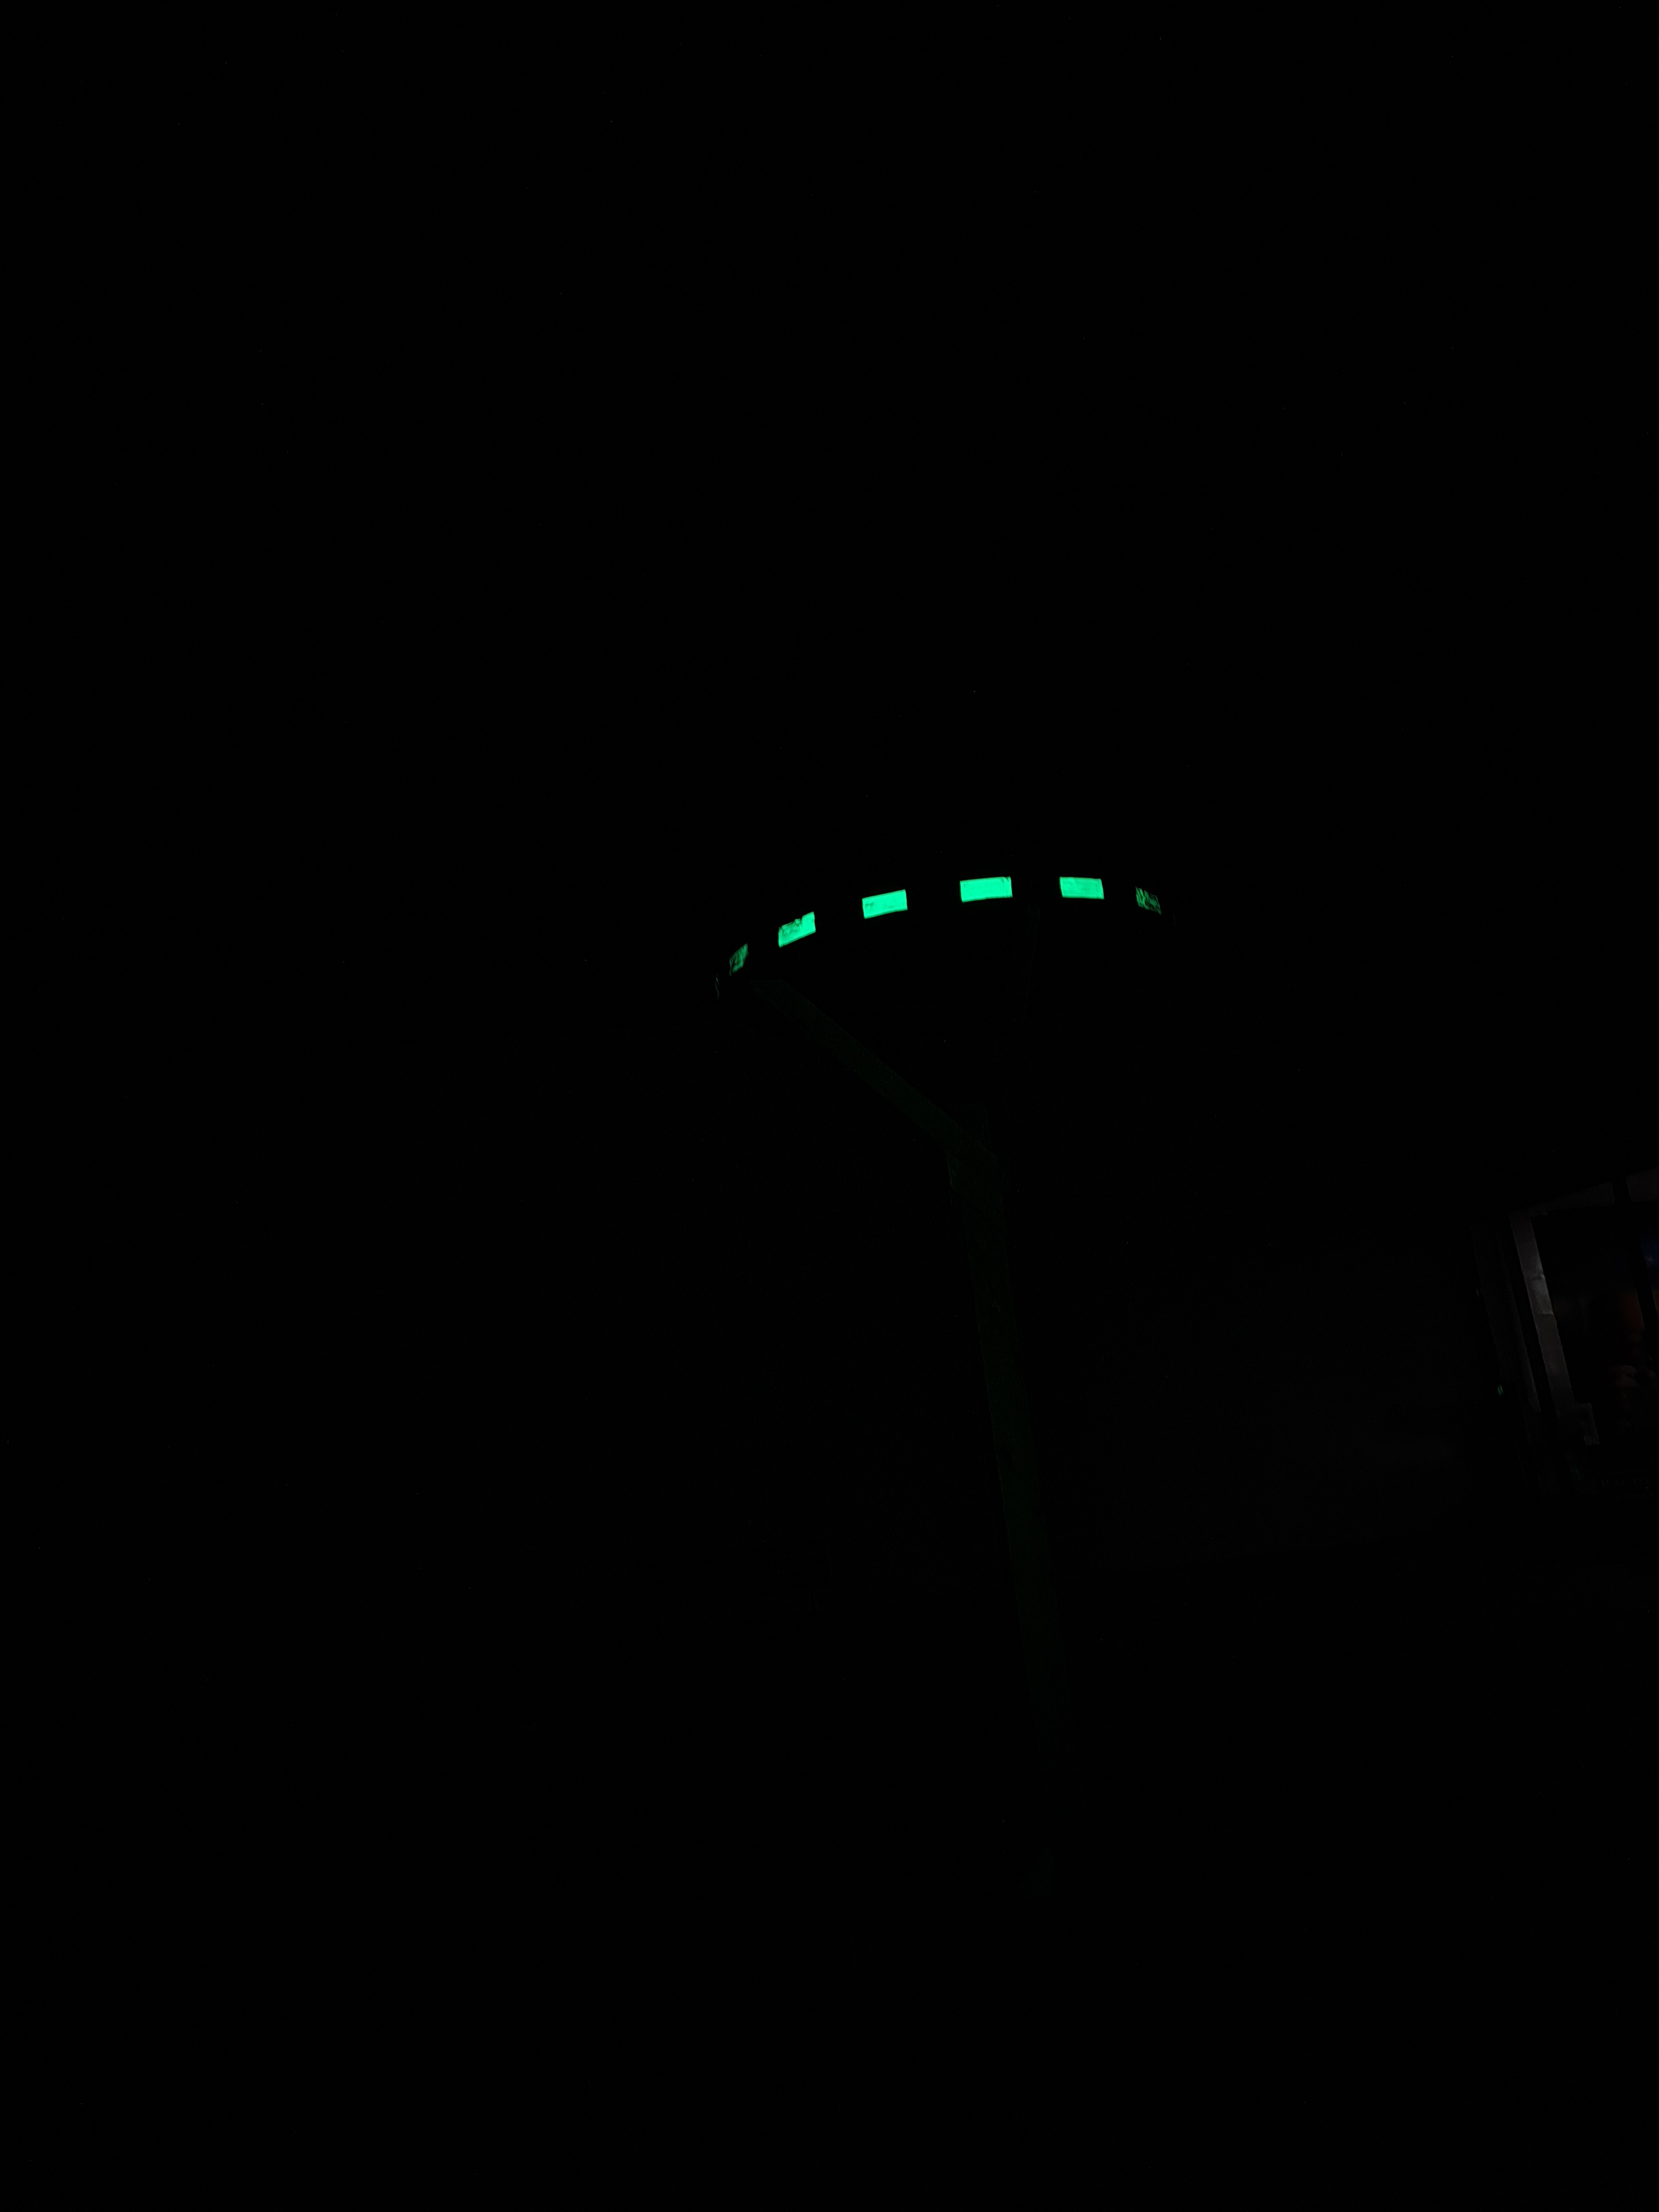hoop: (692, 824, 1180, 1005)
